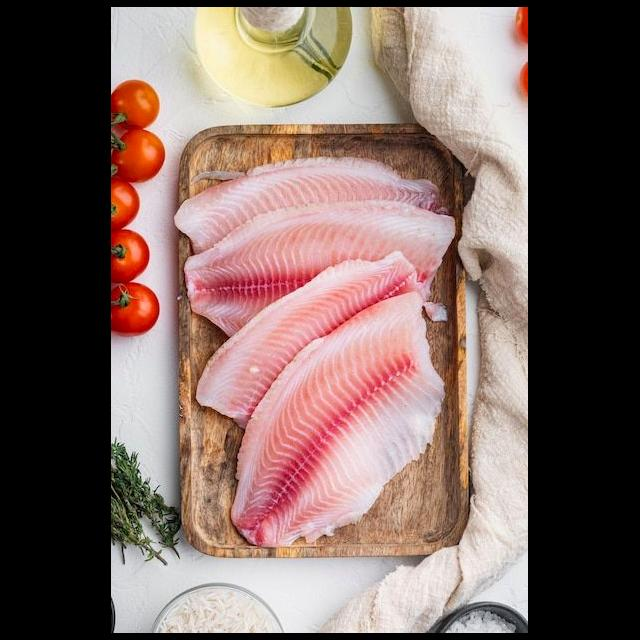fish: (218, 284, 450, 550)
